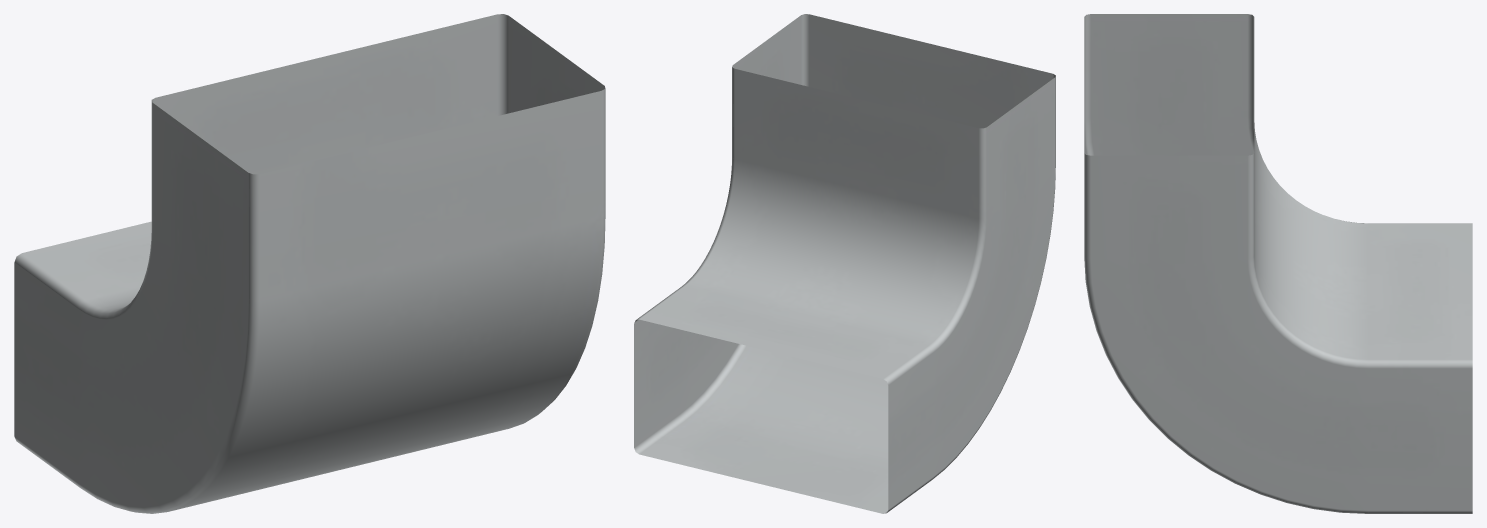
Rendered from rise_90.gltf.
The picture shows the model from 3 angles, left to right: view 1: azimuth 30°, elevation 25°; view 2: azimuth 150°, elevation 25°; view 3: azimuth 270°, elevation 25°; orthographic projection. The views are drawn at different scales.
Visible parts, largest first — view 1: rise_90; view 2: rise_90; view 3: rise_90.
Part boxes in pixels (x1,y1,x2,y2): rise_90: [14, 14, 605, 513]; rise_90: [634, 14, 1055, 513]; rise_90: [1084, 14, 1472, 513].
Bounding box in the file's own units: 0.7569 × 0.8987 × 0.8769.
1 material, 1 textured.
